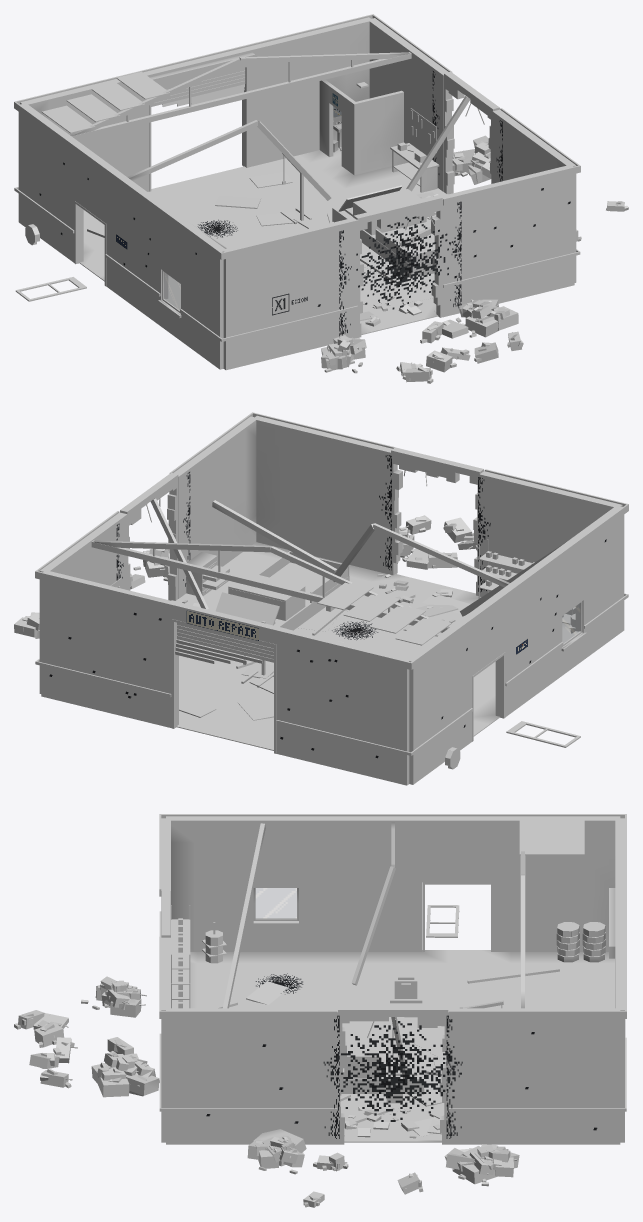
Rendered from garage.glb.
The picture shows the model from 3 angles, top to bottom: view 1: azimuth 30°, elevation 25°; view 2: azimuth 150°, elevation 25°; view 3: azimuth 270°, elevation 25°; orthographic projection. The views are drawn at different scales.
Visible parts, largest first — view 1: garage; view 2: garage; view 3: garage.
Boxes of the visible parts, <box> form: garage: <box>14,14,628,383</box>; garage: <box>14,412,628,785</box>; garage: <box>14,814,626,1207</box>.
Size of the model in its own units: 21.89 by 6 by 18.96.
4 materials, 3 textured.
